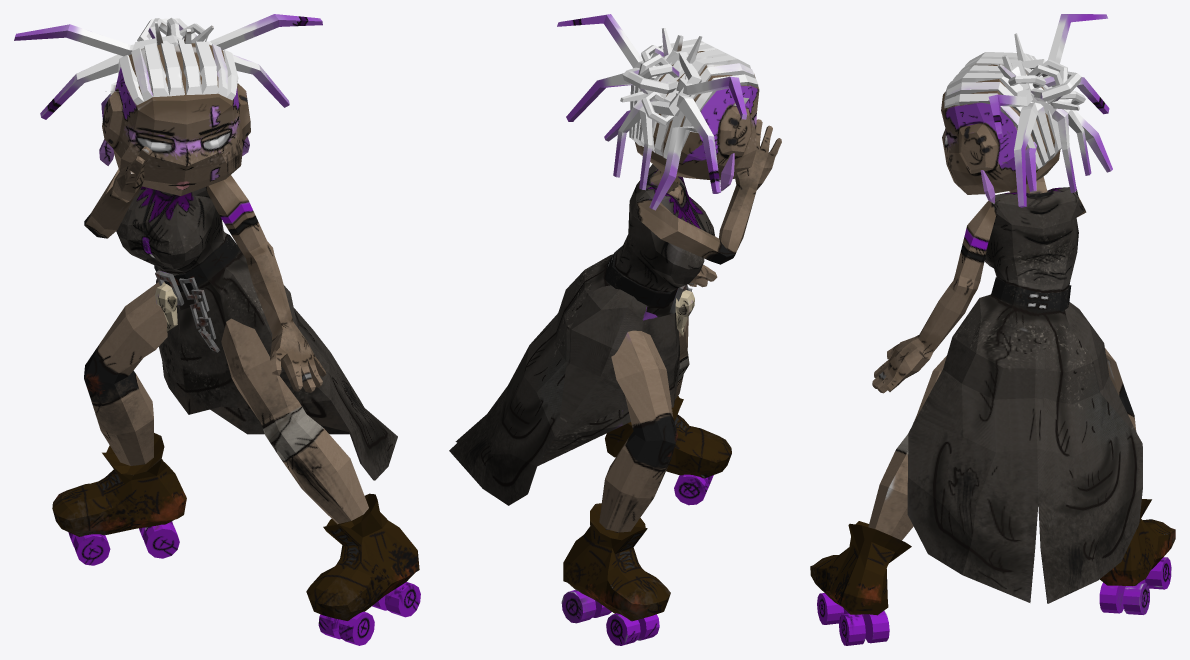
File: bruja_000009.obj
3 views of the same model, side by side, from view 1: azimuth 30°, elevation 25°; view 2: azimuth 150°, elevation 25°; view 3: azimuth 270°, elevation 25° (orthographic). The views are drawn at different scales.
Visible parts, largest first — view 1: Bruja_Plane.001; view 2: Bruja_Plane.001; view 3: Bruja_Plane.001.
Boxes of the visible parts, x1=… form: Bruja_Plane.001: x1=14, y1=14, x2=420, y2=645; Bruja_Plane.001: x1=449, y1=14, x2=781, y2=645; Bruja_Plane.001: x1=810, y1=14, x2=1175, y2=645.
Bounding box in the file's own units: 9.52 × 15.47 × 9.25.
